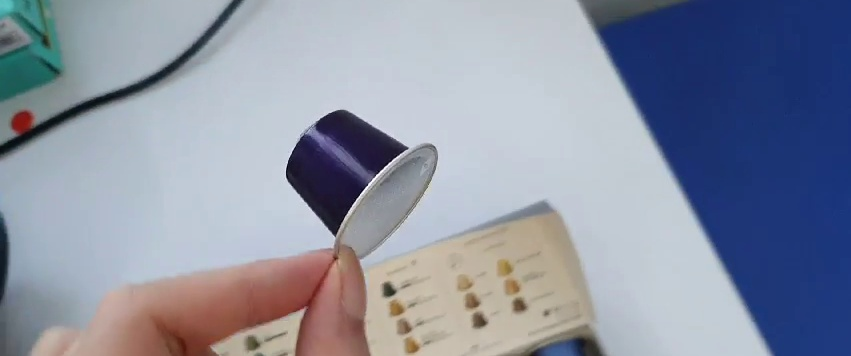capsule_11: (283, 109, 443, 267)
